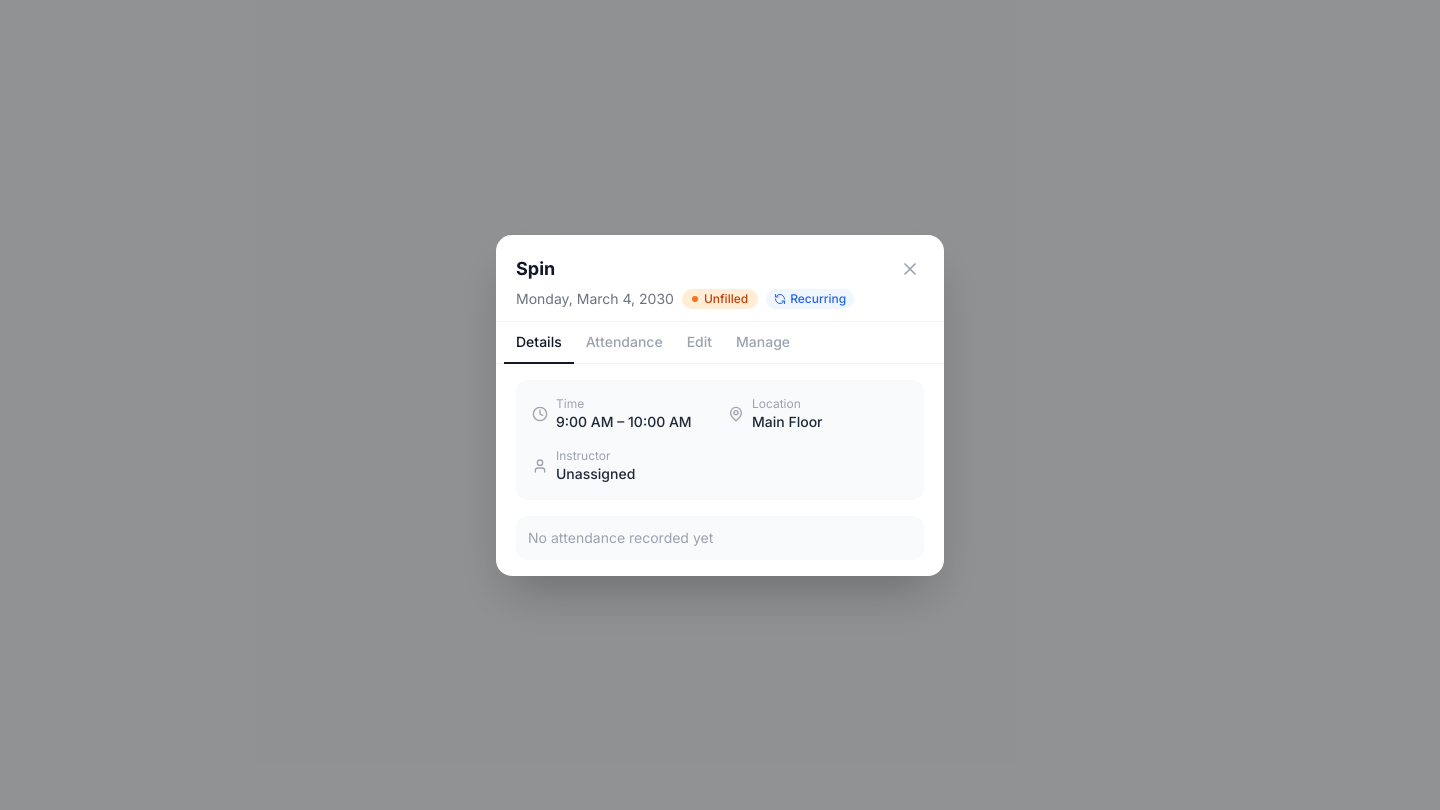
Scenario: ClassDetailModal — editing a recurring class › asks whether to change this class or the series
Click the button "Edit": [699, 342] box [675,322,724,364]
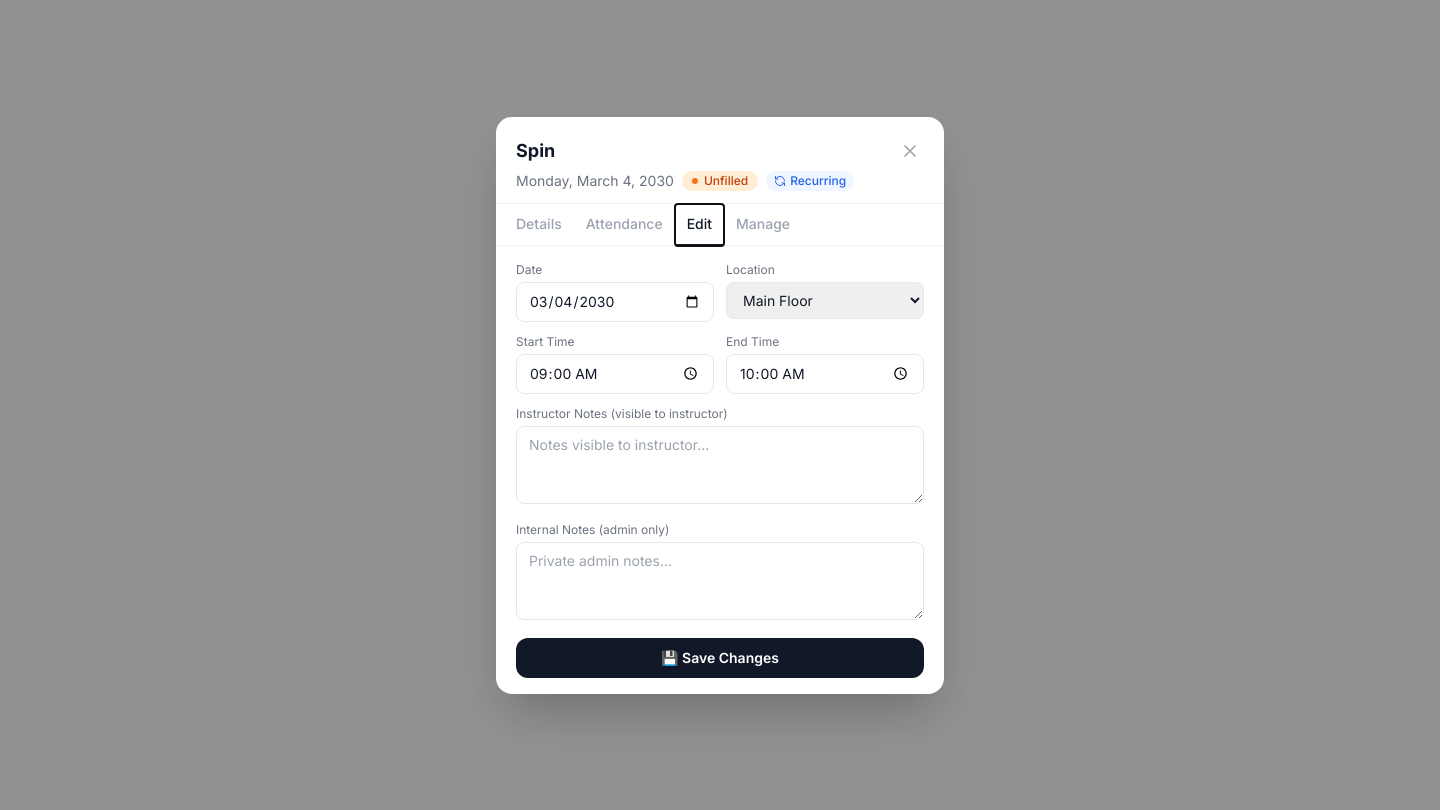
Replace the text in the time field labelled "Start Time" with "06:15": [615, 374] box [516,354,714,394]
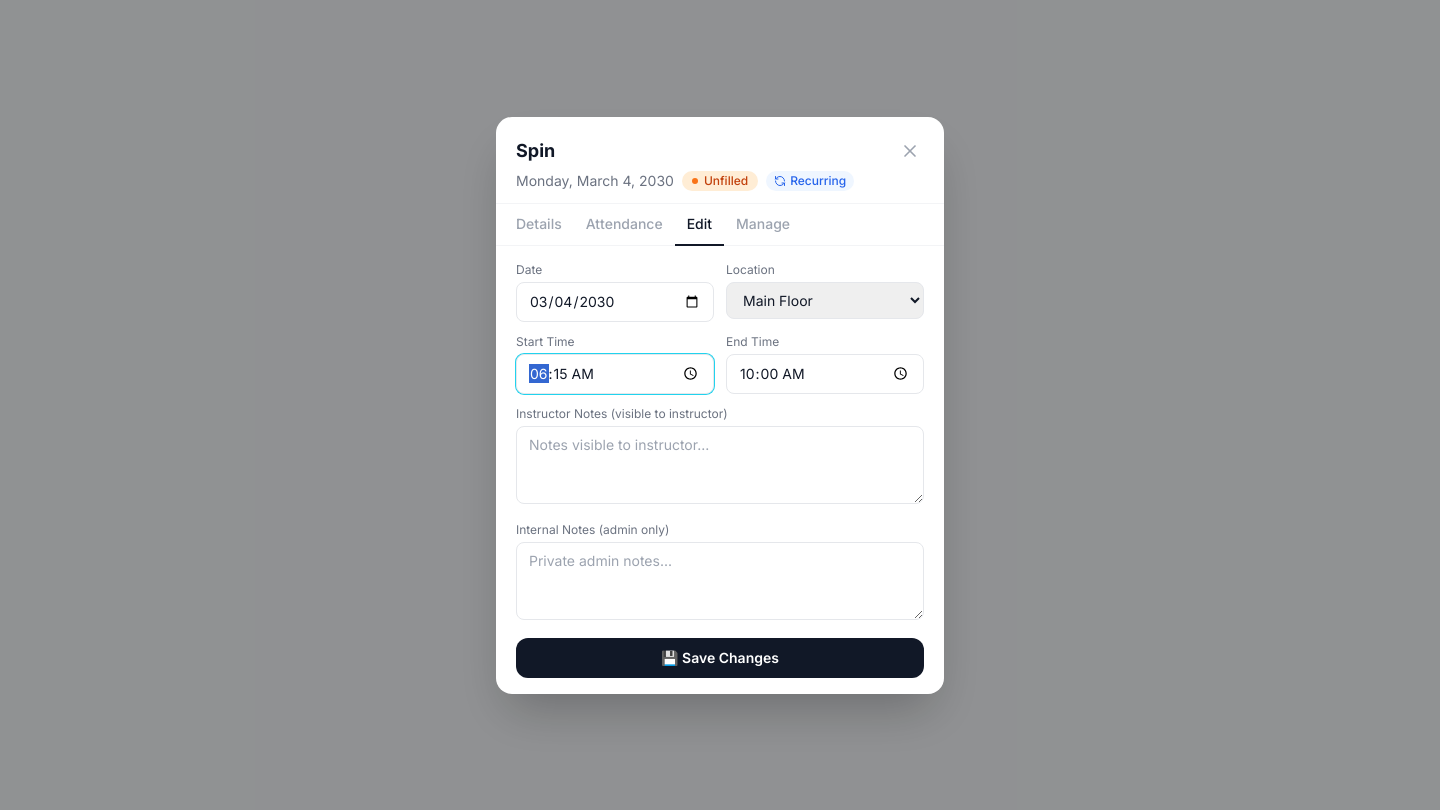
Click the button "💾 Save Changes": [720, 658] box [516,638,924,678]
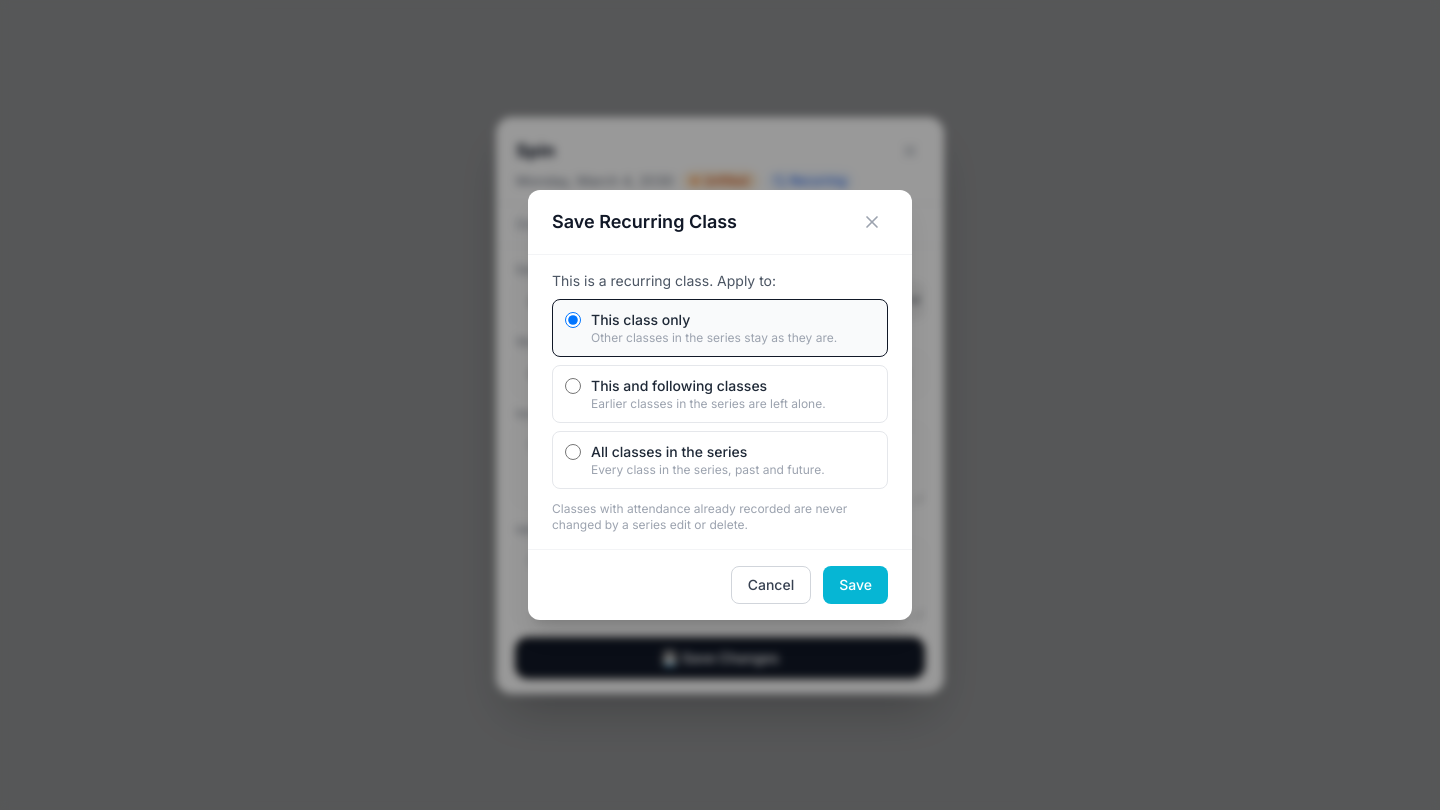
Expected: the radio button labelled "This class only" is checked, [565,312,581,328]
Expected: the radio button labelled "This and following classes" is shown, [565,378,581,394]
Expected: the radio button labelled "All classes in the series" is shown, [565,444,581,460]
